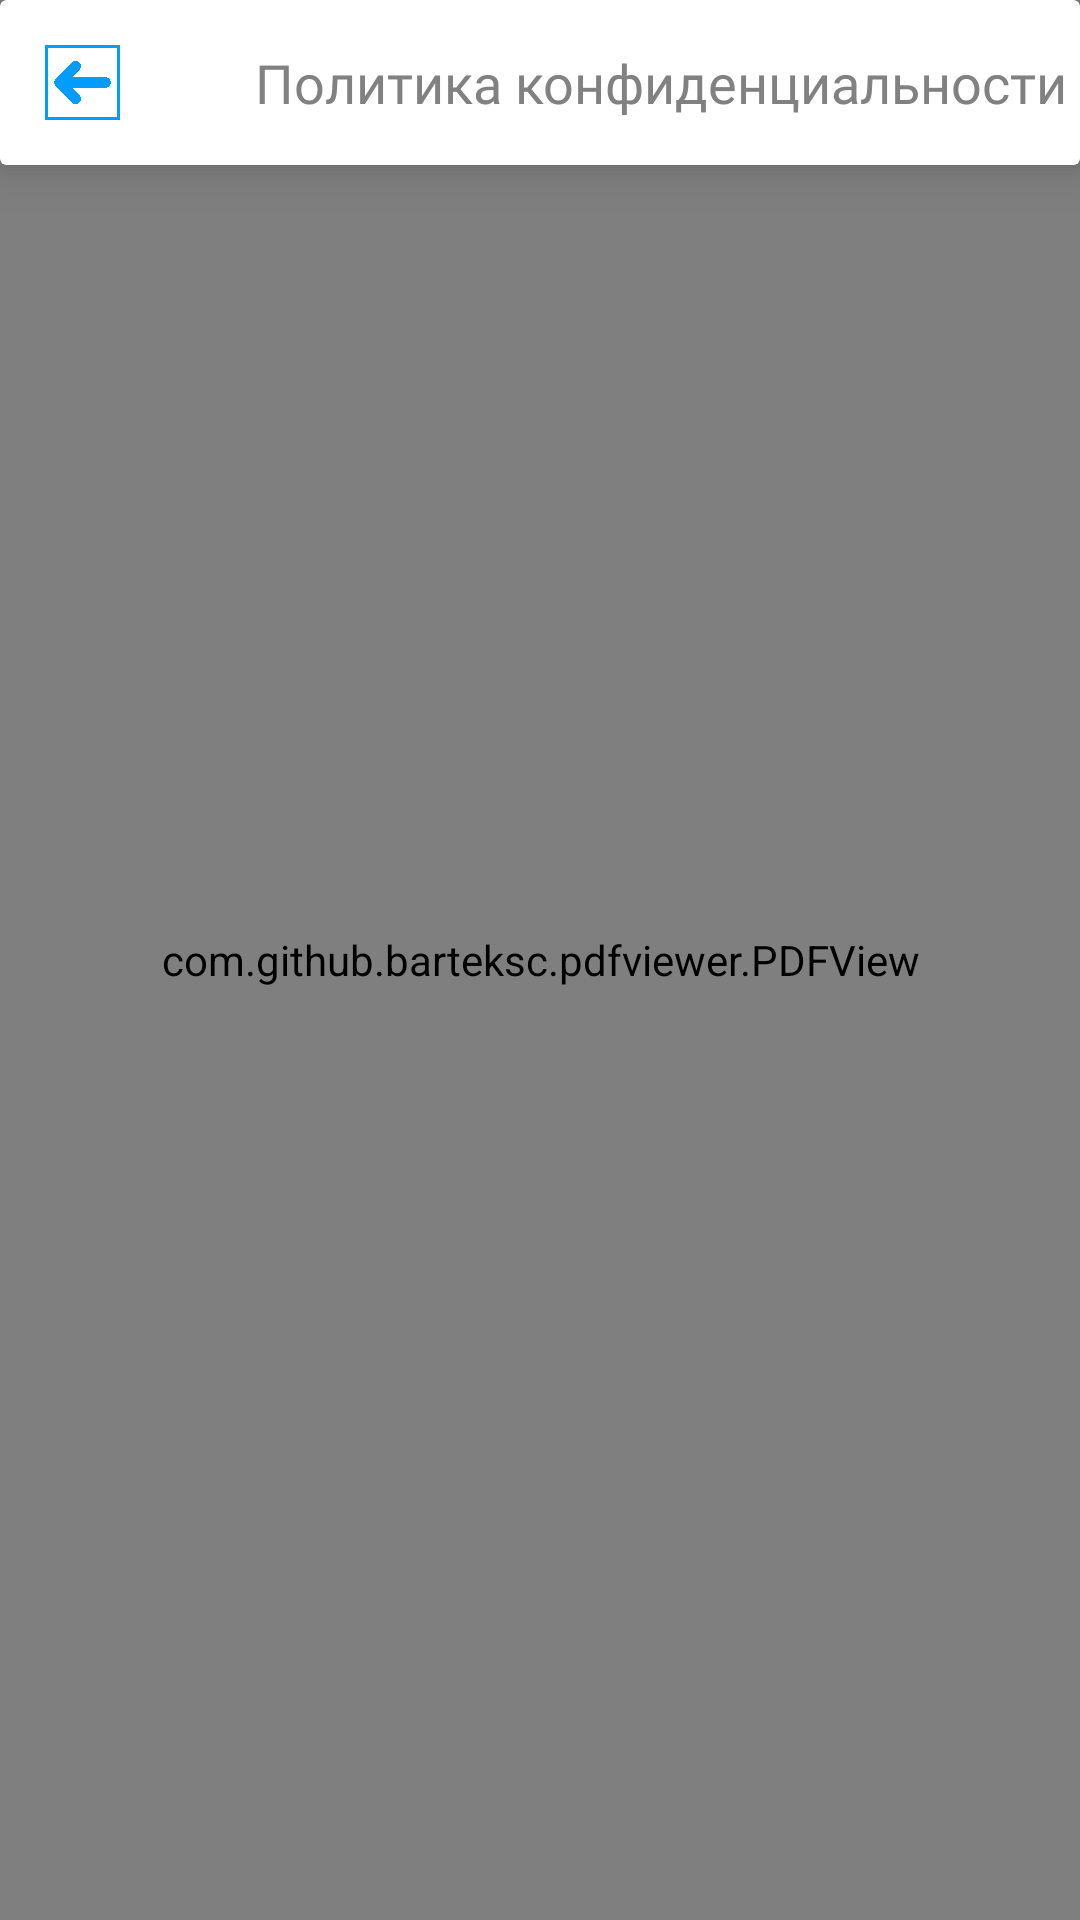

Icon bounding boxes for this 1080 x 1920 phone screenshot, format (x1, y1, x2, y2):
leftarrow: (45, 45, 120, 120)
